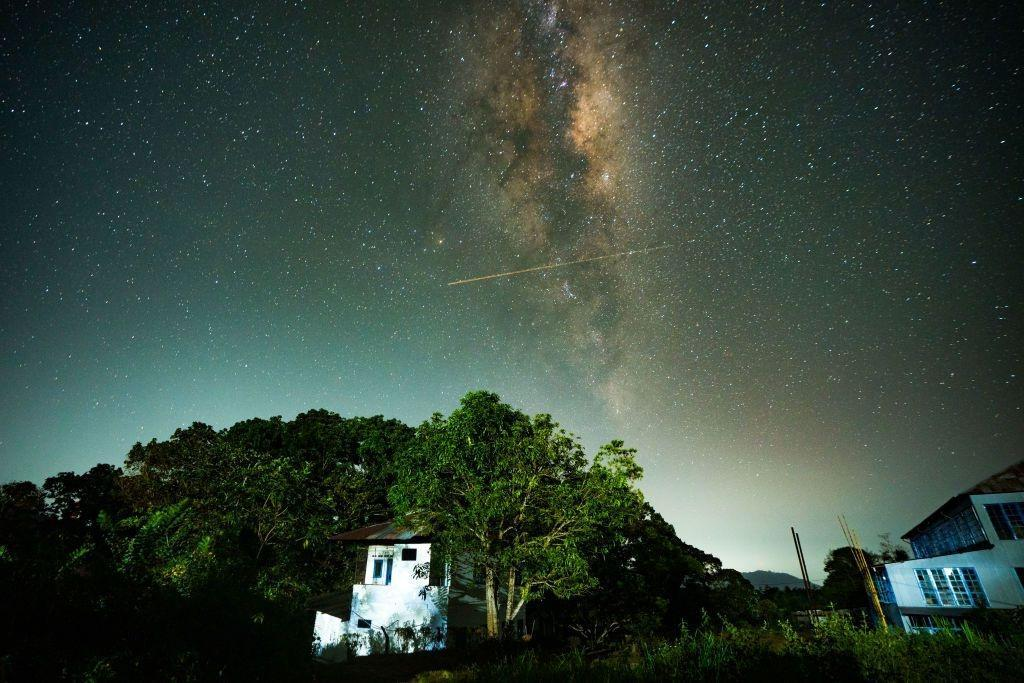meteorite: (433, 259, 579, 292)
